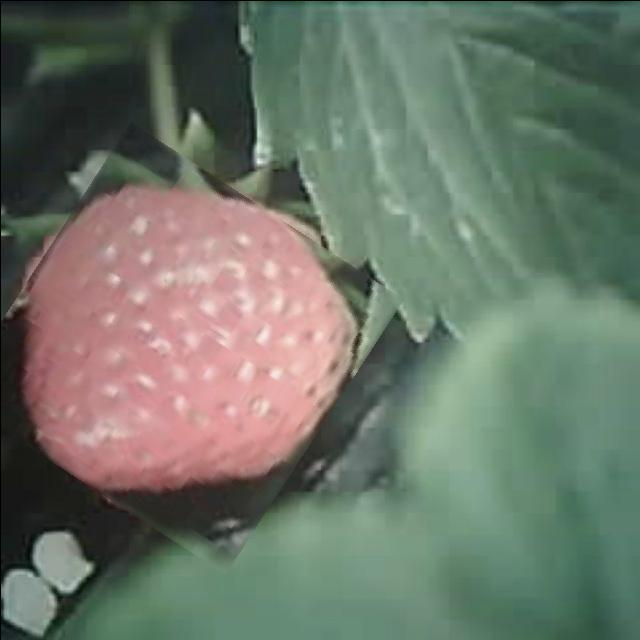strawberry: (0, 152, 372, 542)
